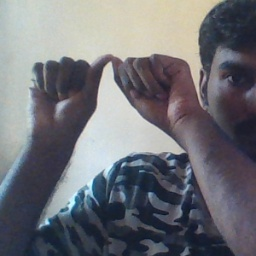A: (28, 53, 194, 139)
